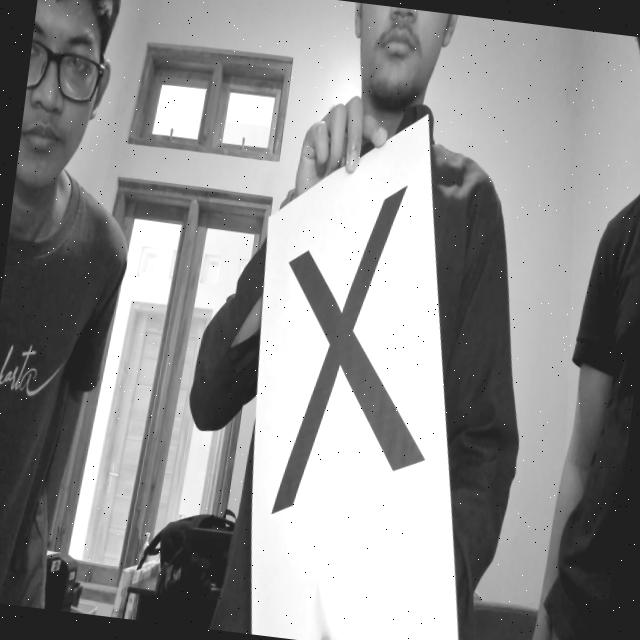x: (230, 166, 465, 538)
